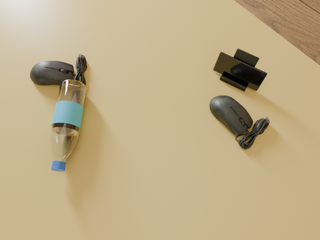bottle: (50, 79, 86, 171)
mouse: (210, 95, 270, 149), (30, 54, 87, 85)
phone: (213, 52, 267, 91)
